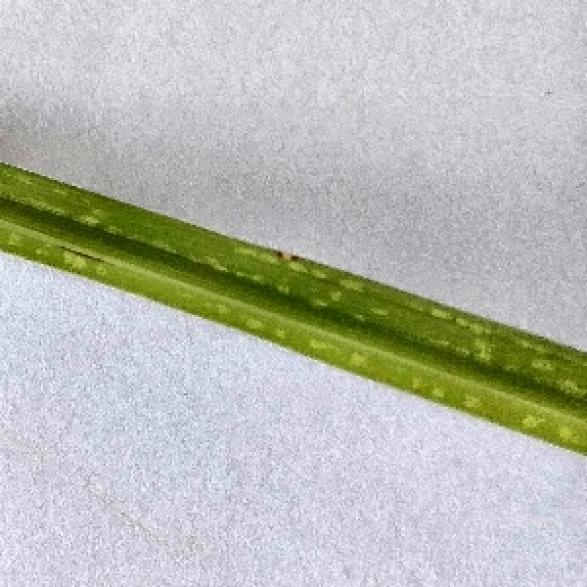Leaf_smut: (262, 243, 302, 270)
